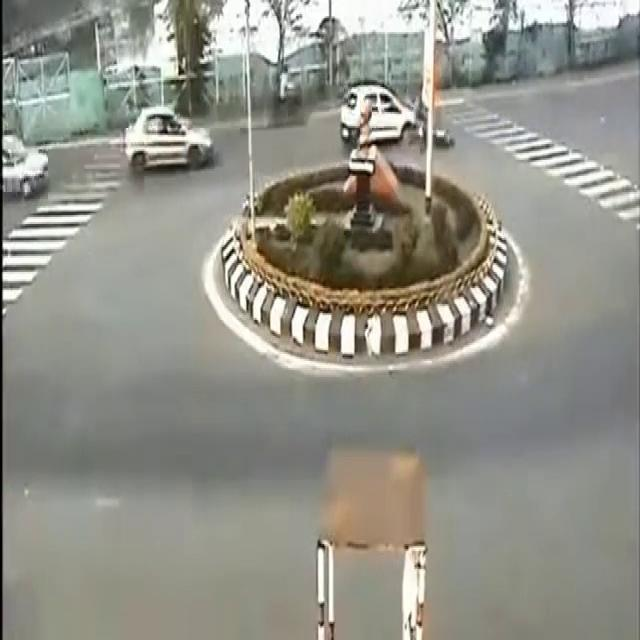accident: (324, 42, 454, 163)
